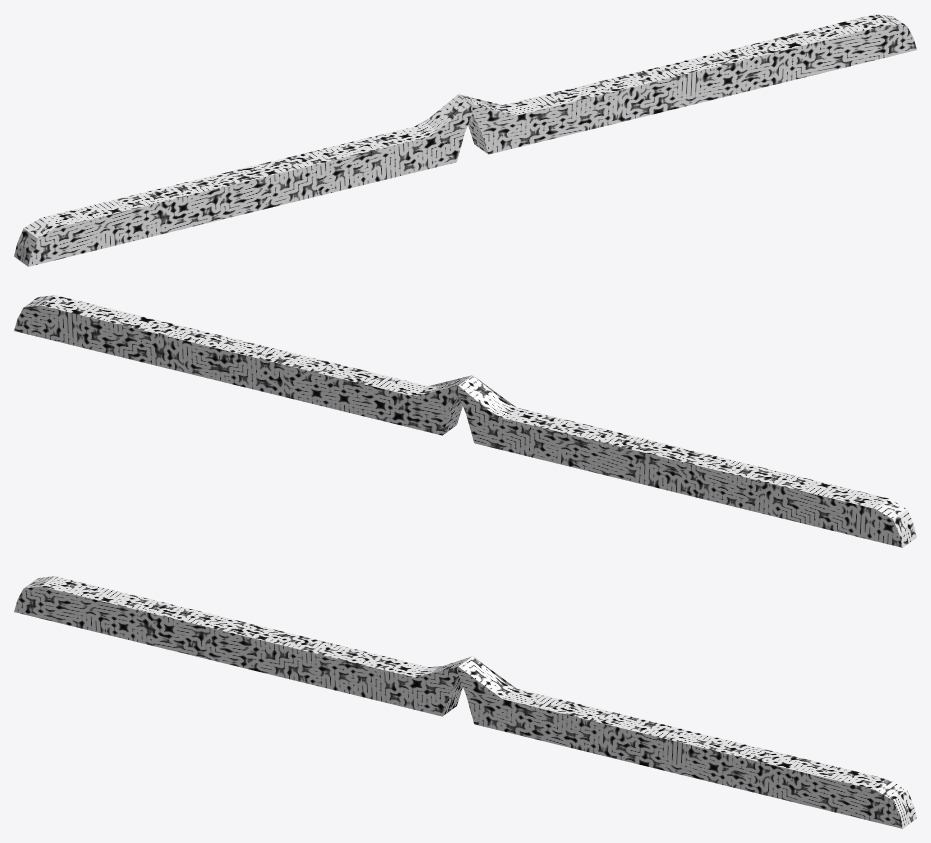
File: obstacle2.obj
3 views of the same model, one above another, from view 1: azimuth 30°, elevation 25°; view 2: azimuth 150°, elevation 25°; view 3: azimuth 330°, elevation 25° (orthographic).
Visible parts, largest first — view 1: Cube; view 2: Cube; view 3: Cube.
Part boxes in pixels (x1,y1,x2,y2): Cube: (14,14,916,266); Cube: (14,295,916,547); Cube: (14,576,916,828).
Size of the model in its own units: 71.91 by 4.16 by 2.
